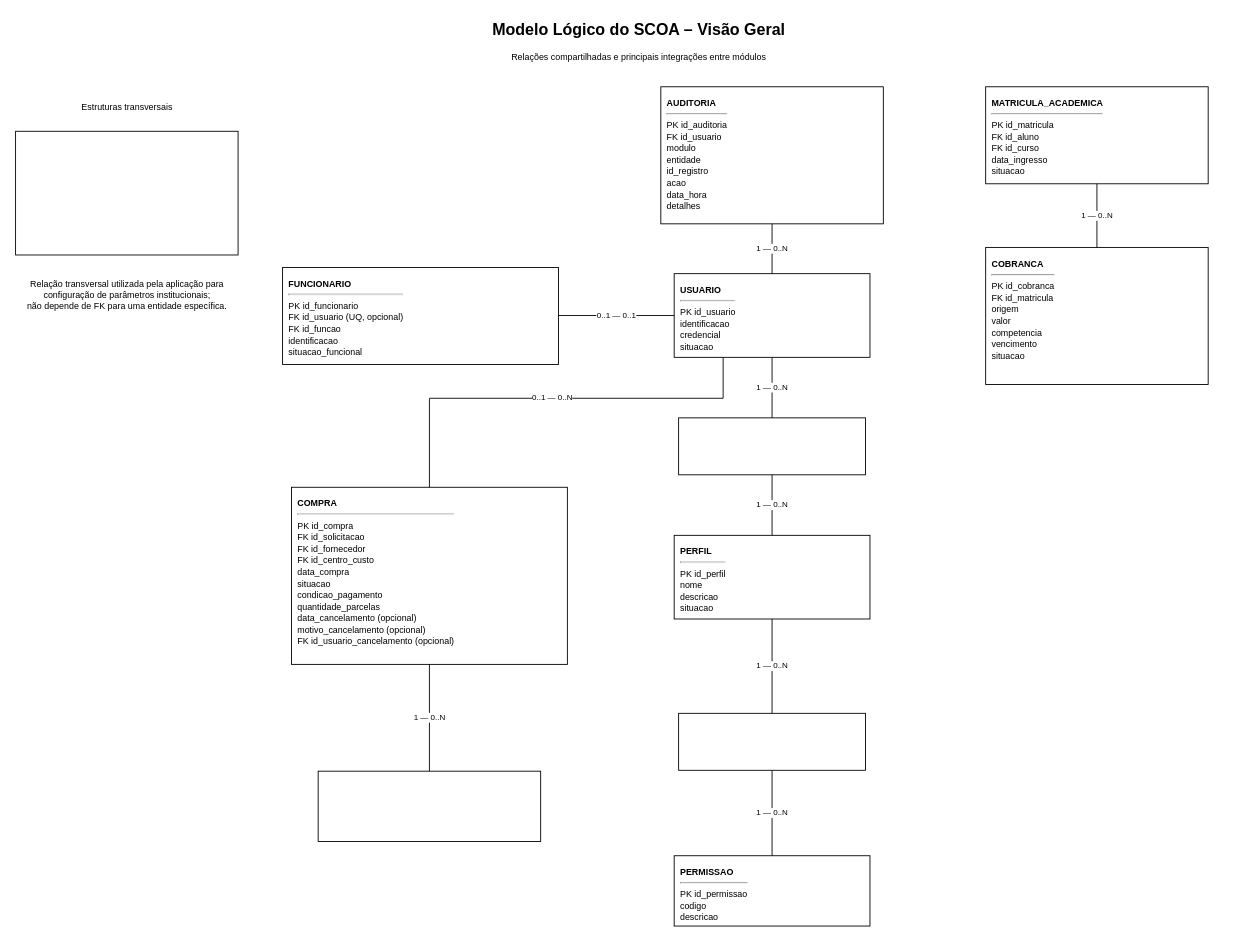
Some shapes in this 1250 by 942 pixel diagram are drawn without their labels. The centre of each missing label's shape, as x and y in pixels:
"CENTRO_CUSTO PK id_centro_custo denominacao situacao" belongs at point (429, 805).
"PARAMETRO_SISTEMA PK id_parametro chave valor tipo modulo descricao situacao" belongs at point (126, 192).
"PERFIL_PERMISSAO PK, FK id_perfil PK, FK id_permissao" belongs at point (772, 741).
"USUARIO_PERFIL PK, FK id_usuario PK, FK id_perfil" belongs at point (772, 446).
